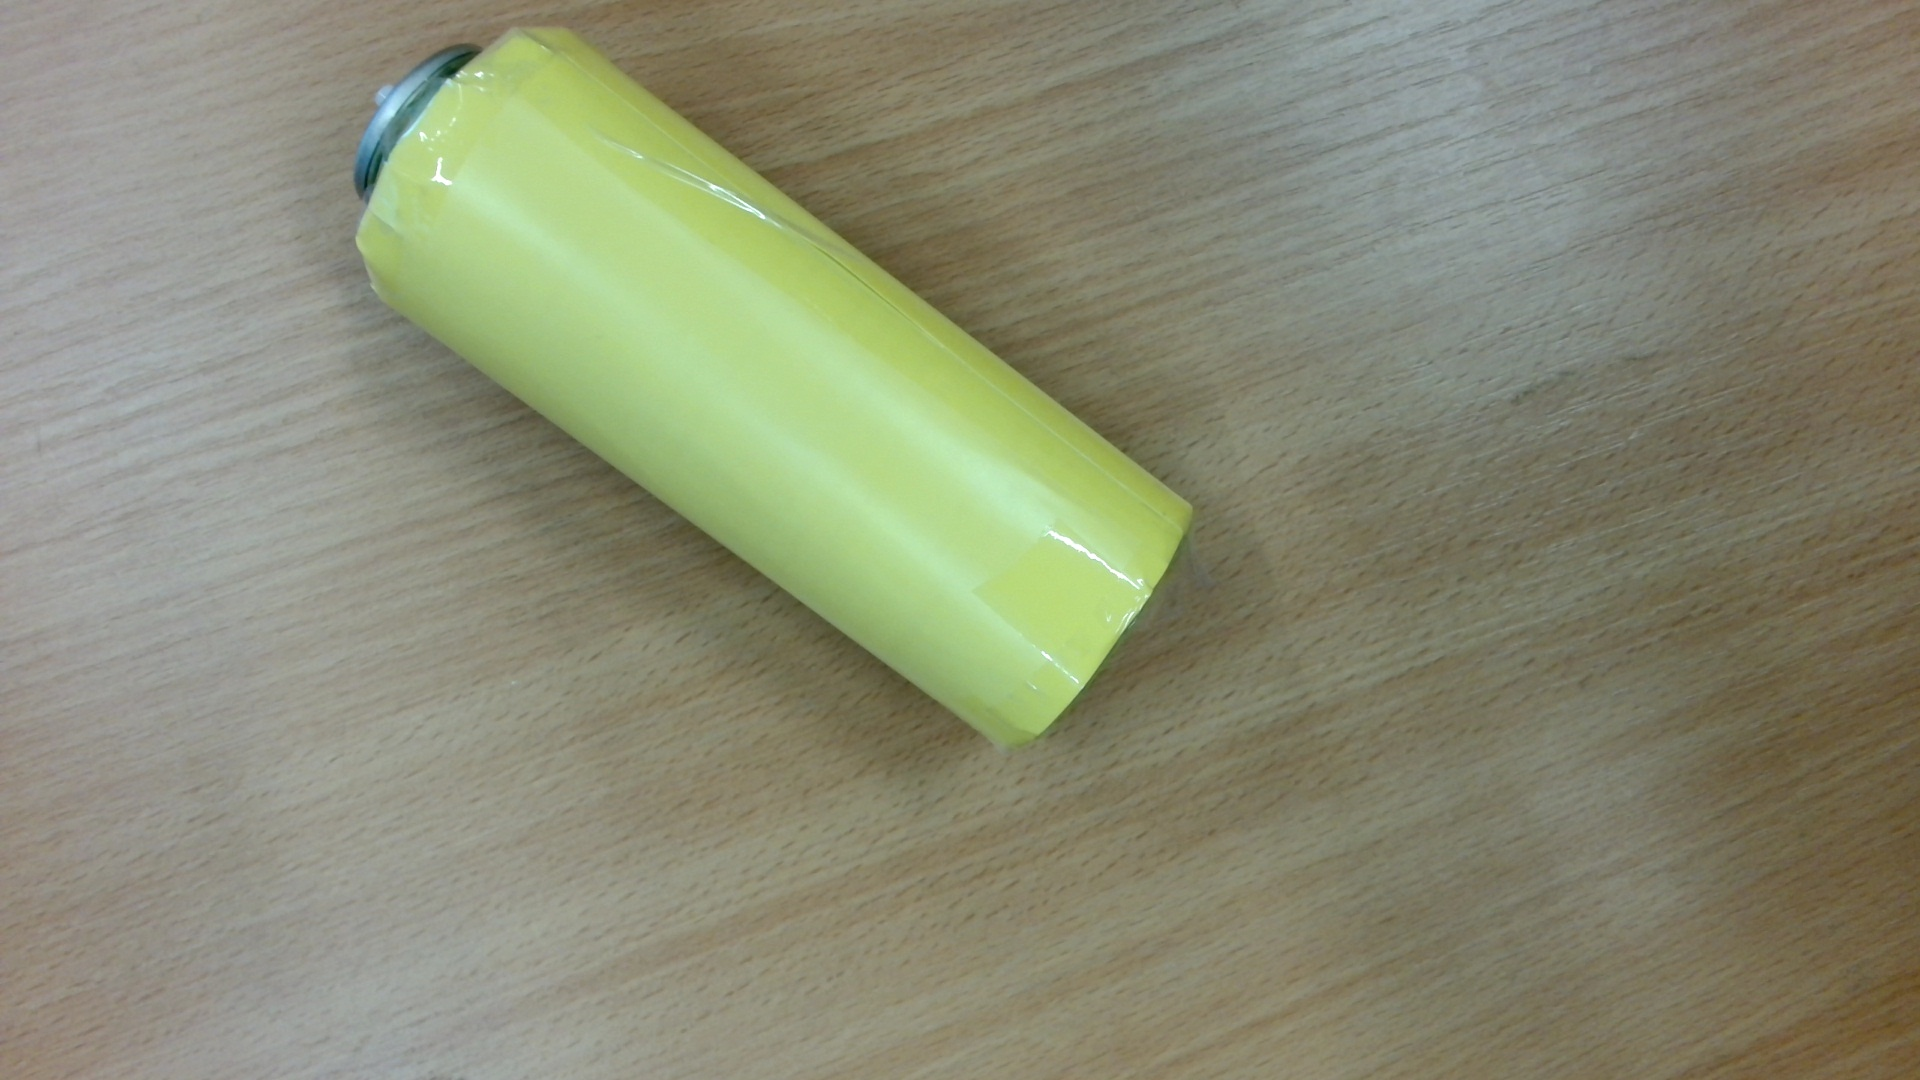Cylinder: (339, 13, 1215, 767)
